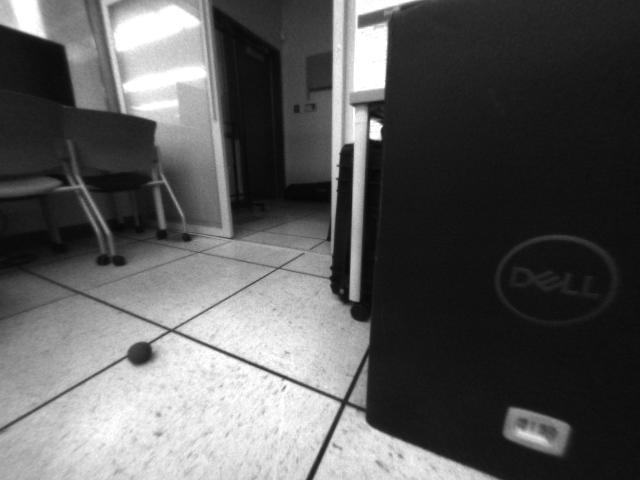dogtoy: (122, 334, 160, 371)
